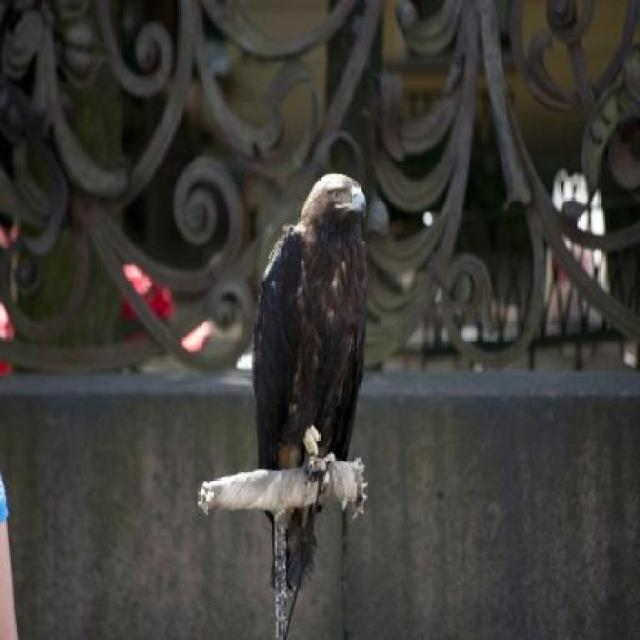Eagle: (249, 167, 373, 640)
